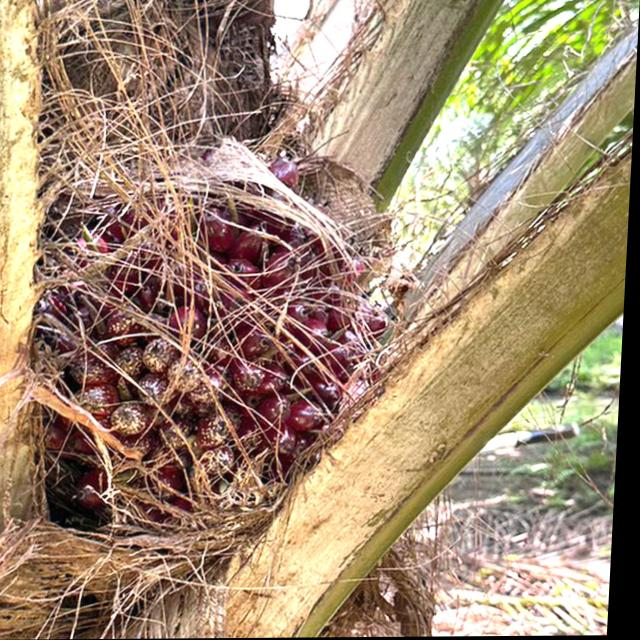ripe: (21, 129, 417, 514)
